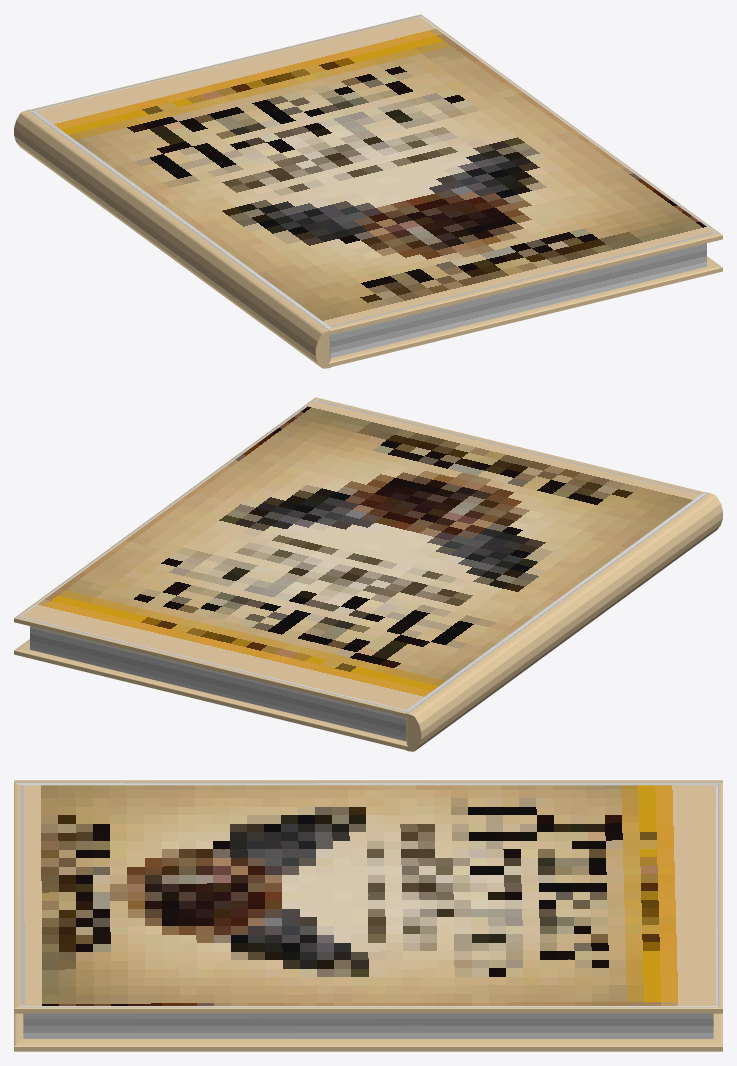
File: book_brown_1.glb
3 renders of one model, top to bottom at view 1: azimuth 30°, elevation 25°; view 2: azimuth 150°, elevation 25°; view 3: azimuth 270°, elevation 25°, orthographic. The views are drawn at different scales.
Parts seen in each view (by area): view 1: Livro1.002; view 2: Livro1.002; view 3: Livro1.002.
Part boxes in pixels (bbox=[...]): Livro1.002: bbox=[14, 14, 722, 368]; Livro1.002: bbox=[14, 397, 722, 751]; Livro1.002: bbox=[14, 780, 722, 1051].
Bounding box in the file's own units: 0.22 × 0.0194 × 0.2824.
1 material, 1 textured.
